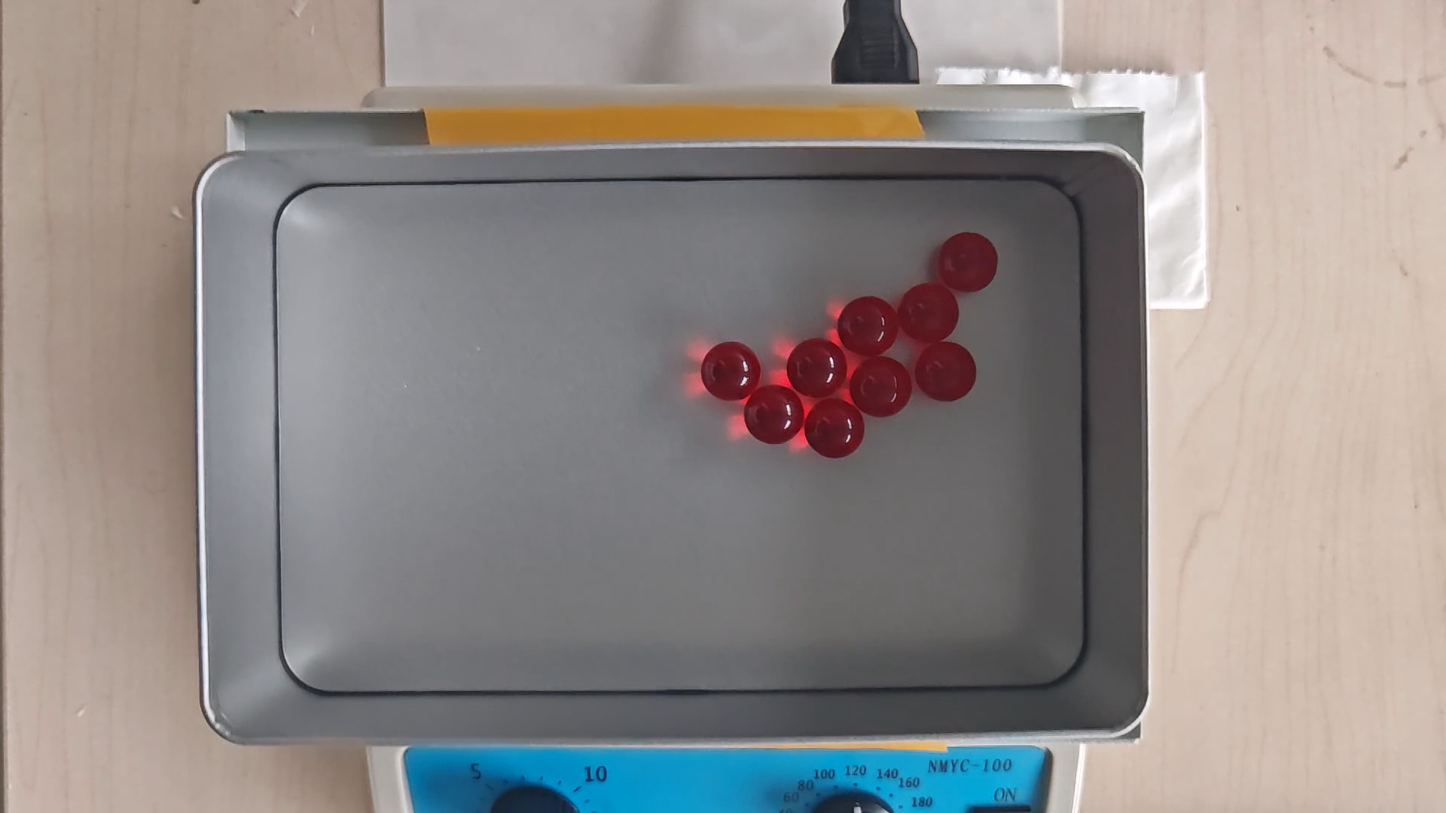ball: (915, 342, 978, 403), (851, 356, 912, 418), (805, 398, 865, 460), (744, 385, 804, 446), (701, 340, 761, 401), (837, 296, 897, 356), (899, 282, 958, 343), (940, 231, 998, 292), (788, 337, 846, 398)
container: (277, 178, 1084, 691)
